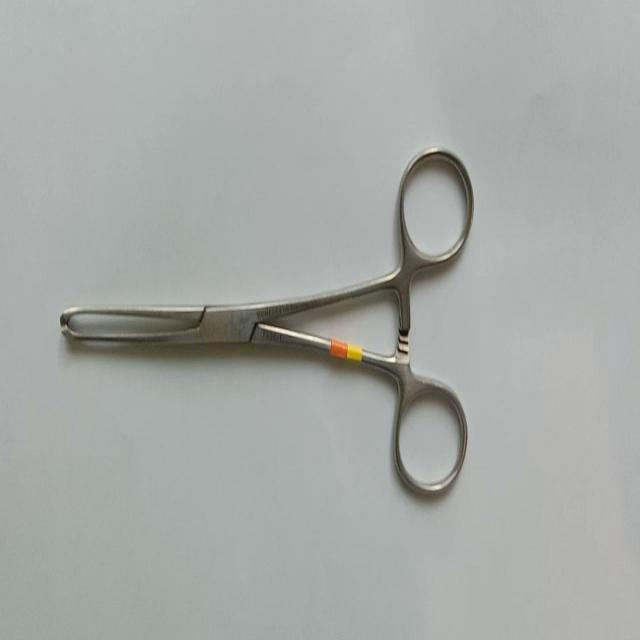AllisForcep: (59, 139, 474, 504)
